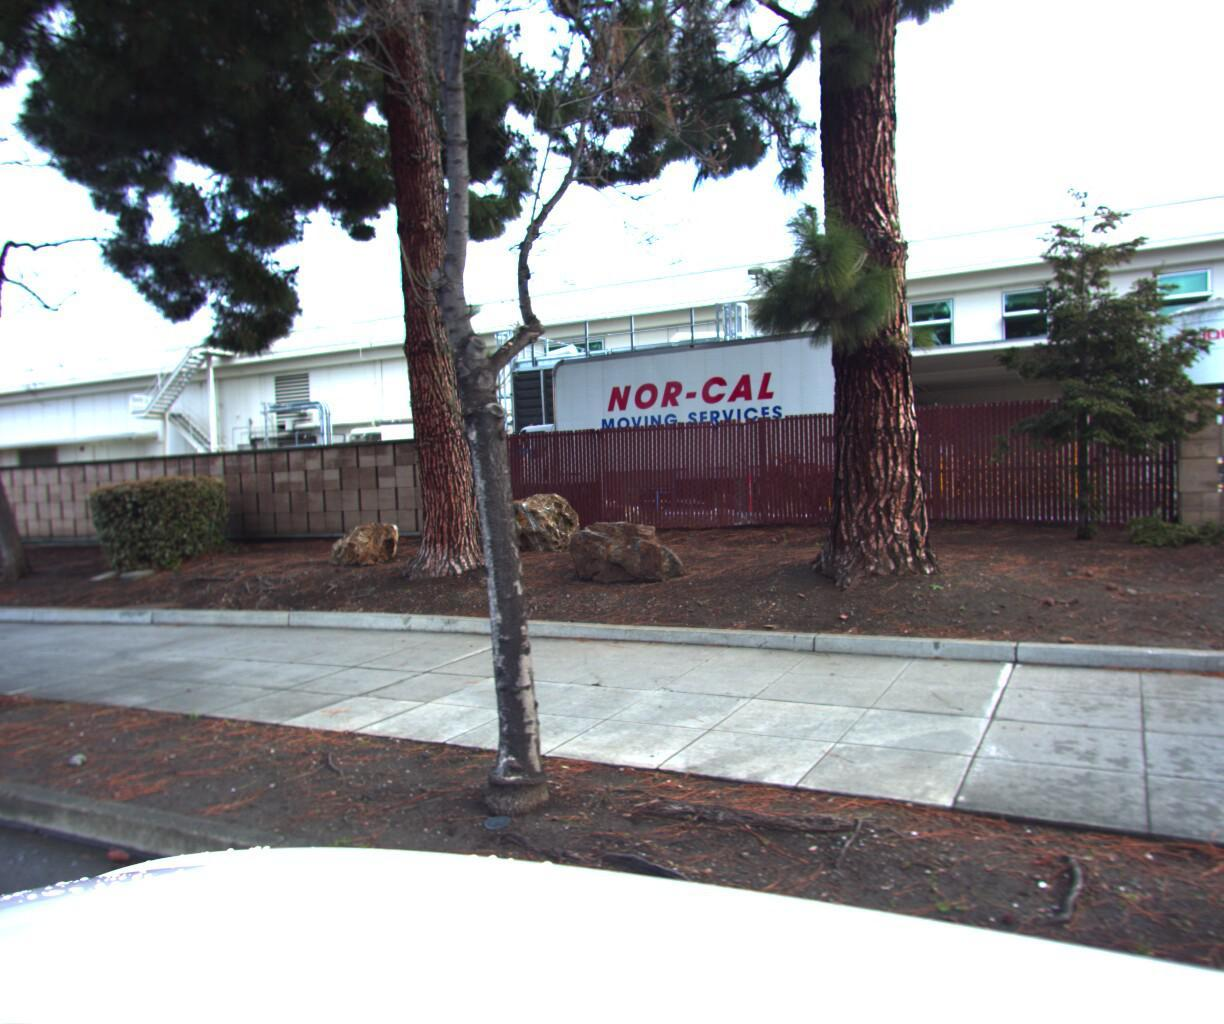truck: (487, 319, 899, 528)
